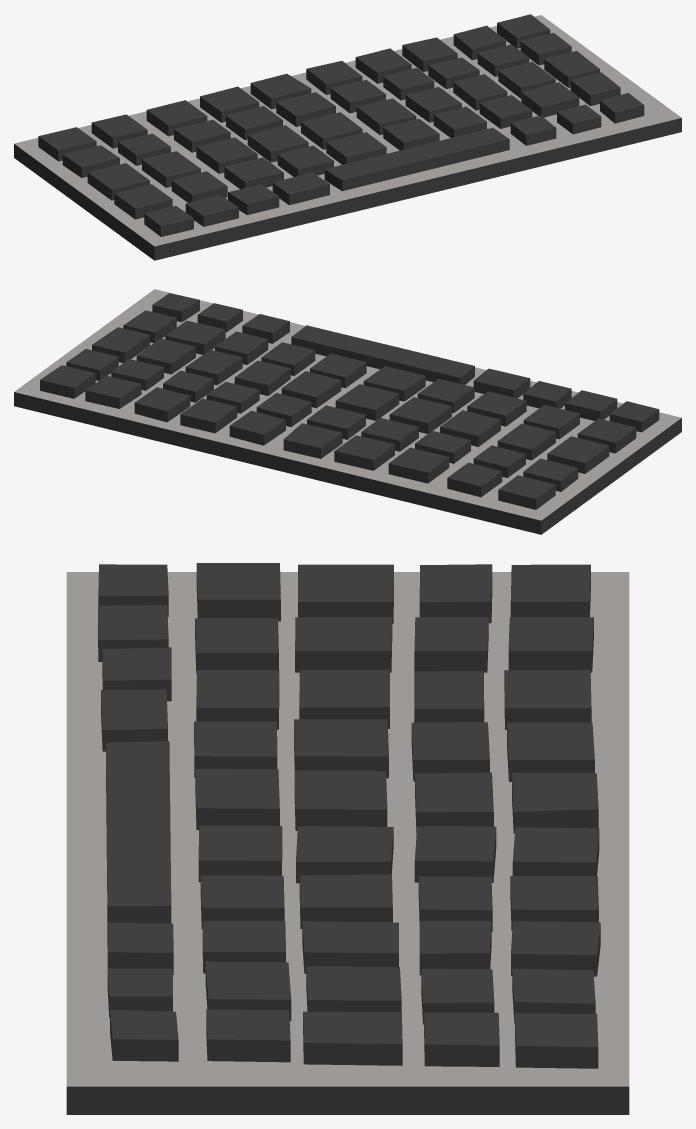
The model's file is Office2_Keyboard.fbx.
3 renders of one model, top to bottom at view 1: azimuth 30°, elevation 25°; view 2: azimuth 150°, elevation 25°; view 3: azimuth 270°, elevation 25°, orthographic. The views are drawn at different scales.
Visible parts, largest first — view 1: Office2_Keyboard; view 2: Office2_Keyboard; view 3: Office2_Keyboard.
Part boxes in pixels (left/top/right/bottom): Office2_Keyboard: left=14, top=14, right=681, bottom=260; Office2_Keyboard: left=14, top=289, right=681, bottom=534; Office2_Keyboard: left=66, top=563, right=629, bottom=1114.
Bounding box in the file's own units: 70.25 × 32.45 × 3.19.
